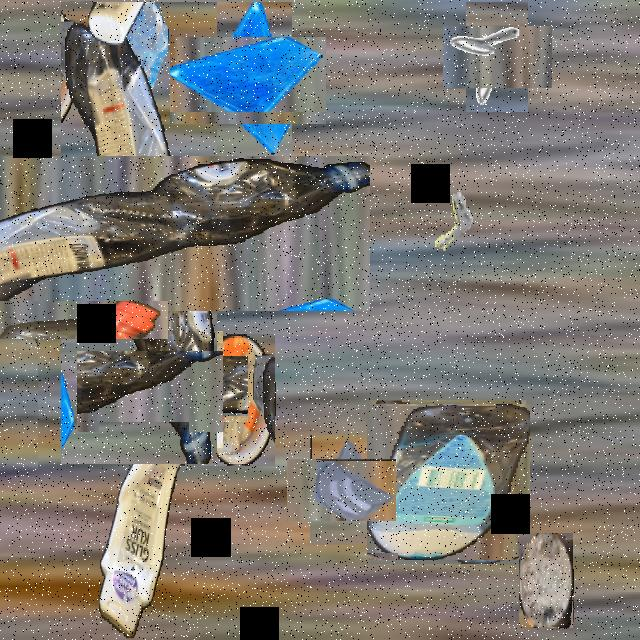glass: (187, 19, 309, 141), (93, 334, 207, 448), (144, 344, 236, 435), (298, 448, 384, 534)
metal: (454, 14, 540, 100), (417, 176, 477, 283)
plastic: (0, 78, 293, 387), (368, 402, 528, 562), (99, 422, 189, 638), (0, 235, 103, 404), (201, 334, 275, 466)
wood: (519, 534, 573, 630)
